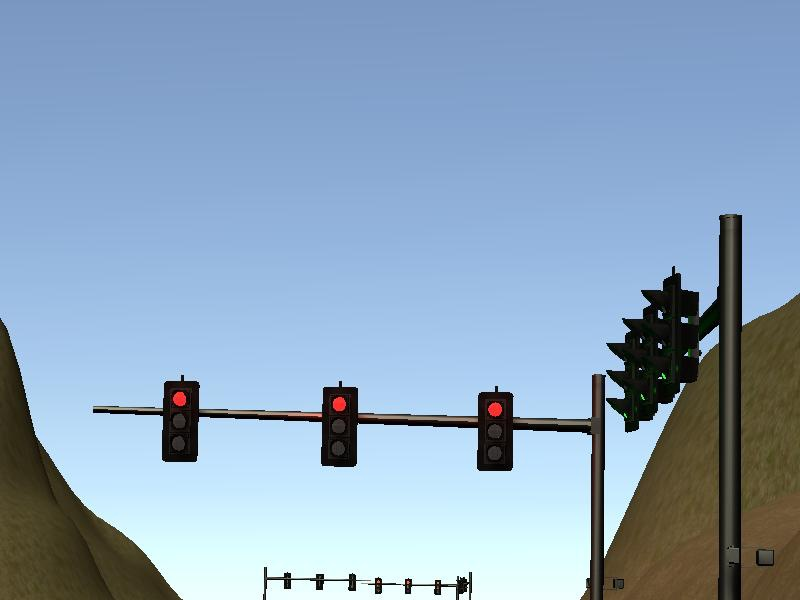Red: (160, 378, 200, 463), (319, 385, 359, 470), (474, 389, 514, 474)
